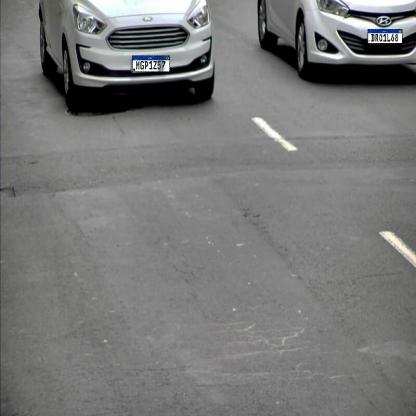PlacaM: (132, 56, 170, 72), (368, 29, 402, 44)
